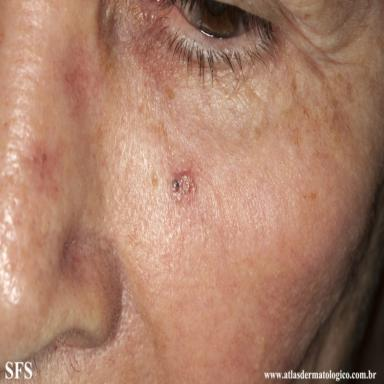basal-cell-carcinoma: (168, 169, 197, 202)
